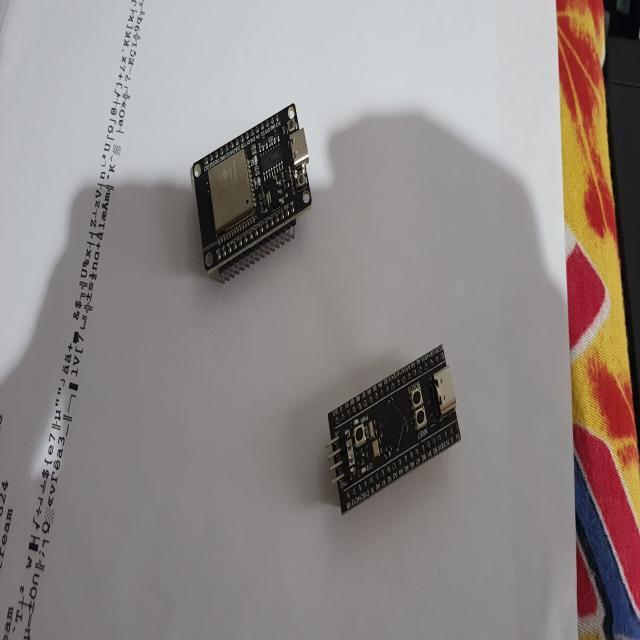ESP32: (192, 104, 310, 274)
STM32: (329, 346, 461, 513)
